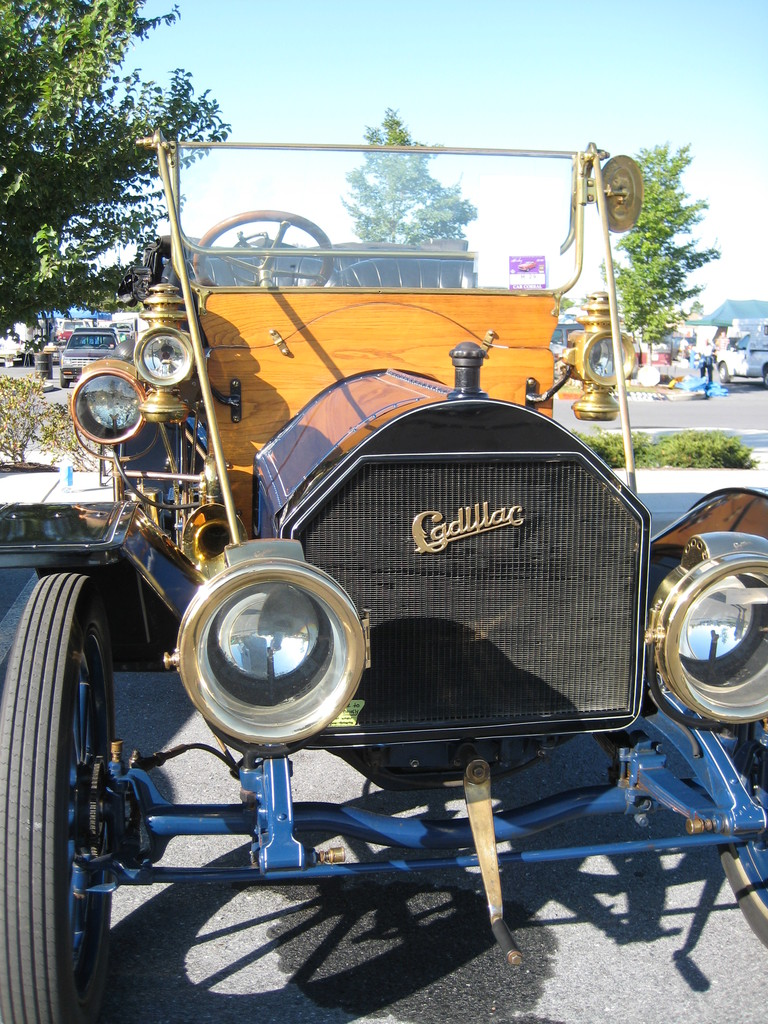Car: (18, 112, 736, 1024), (58, 325, 115, 387)
